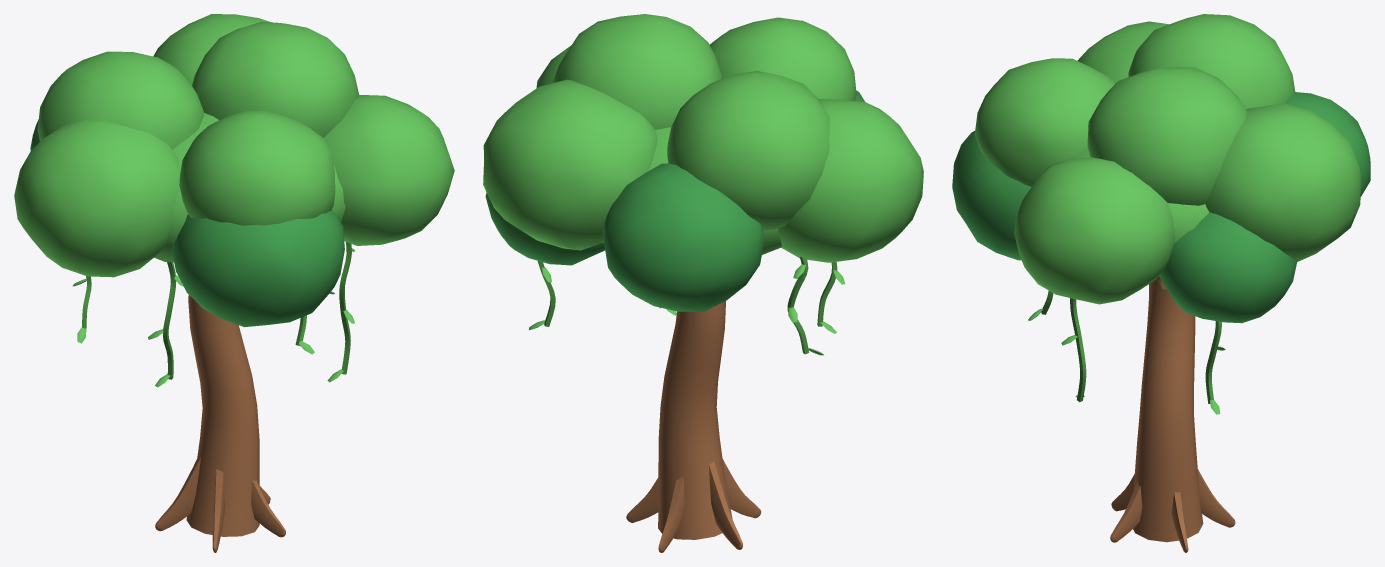
File: jungle_tree.glb
3 renders of one model, left to right at view 1: azimuth 30°, elevation 25°; view 2: azimuth 150°, elevation 25°; view 3: azimuth 270°, elevation 25°, orthographic. The views are drawn at different scales.
Parts seen in each view (by area): view 1: jungle_tree; view 2: jungle_tree; view 3: jungle_tree.
Boxes of the visible parts, <box> form: jungle_tree: <box>14,14,454,552</box>; jungle_tree: <box>483,14,923,552</box>; jungle_tree: <box>952,14,1370,552</box>.
Bounding box in the file's own units: 8.5 × 10.07 × 8.02.
